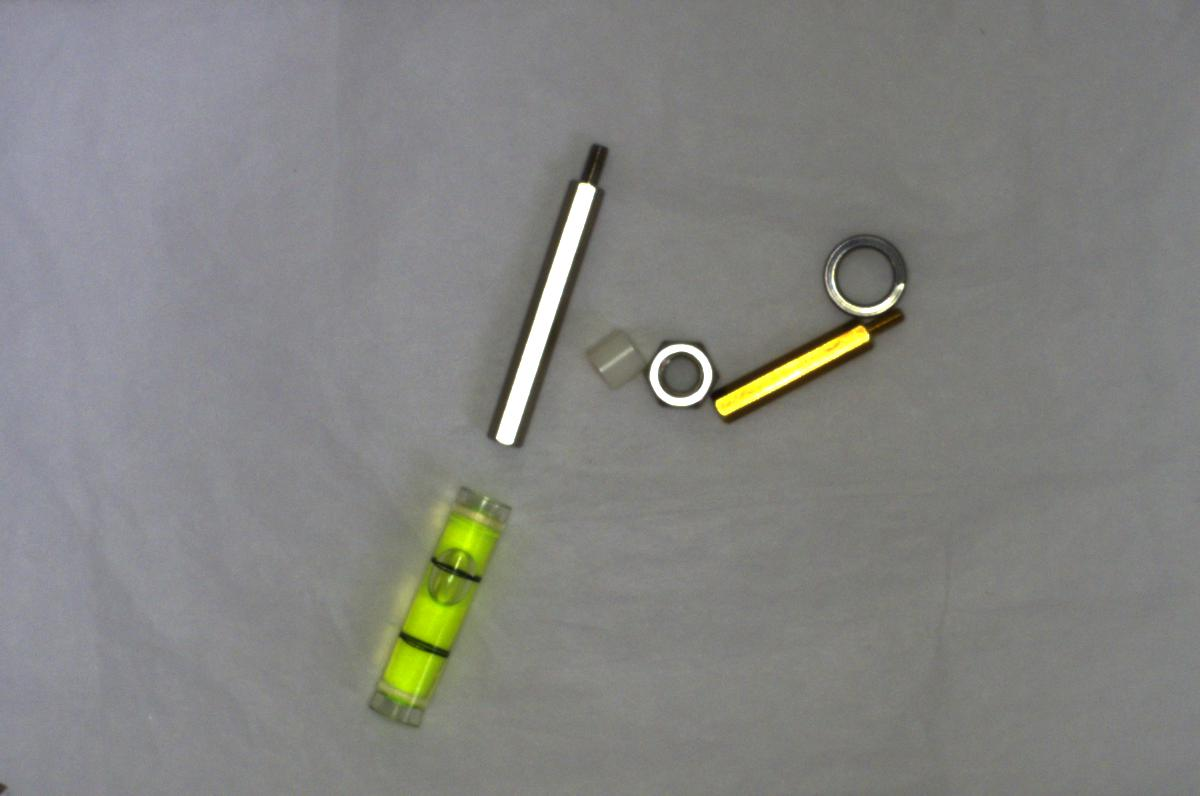Hexagon nut: (630, 332, 719, 415)
Hexagon pillar: (721, 308, 906, 420)
Hexagonal steel column: (475, 141, 607, 454)
Horizontal bubble: (362, 475, 510, 730)
Plastic cushion pillar: (573, 320, 648, 392)
Spring washer: (819, 232, 911, 320)
